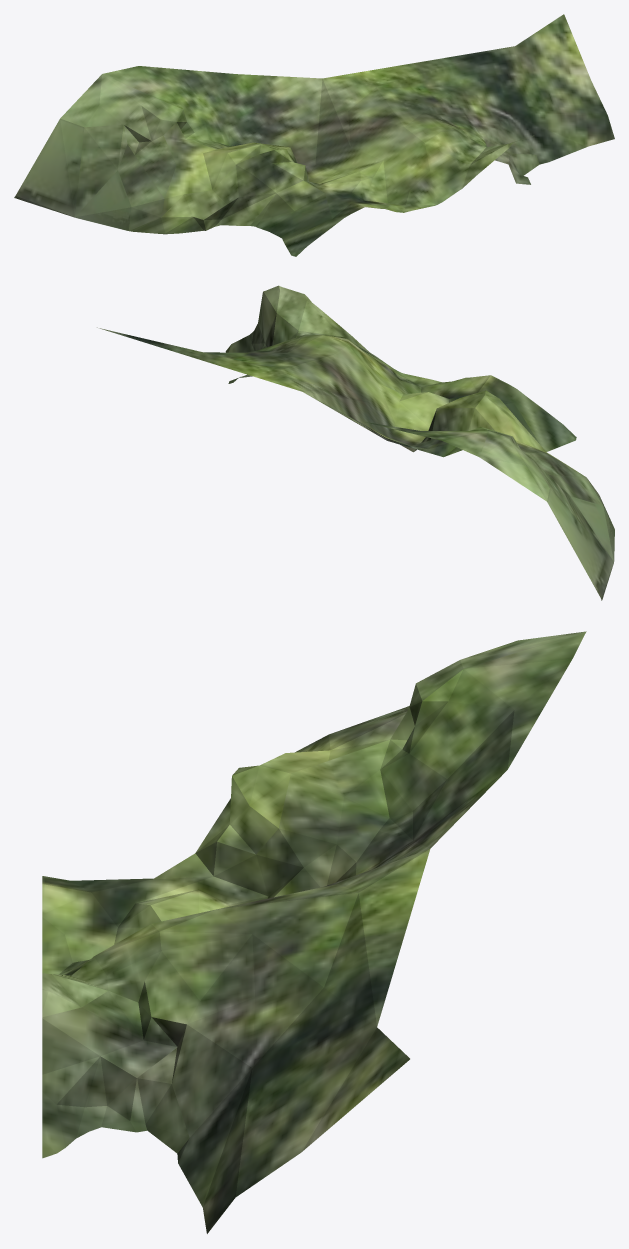
3 views of the same model, one above another, from view 1: azimuth 30°, elevation 25°; view 2: azimuth 150°, elevation 25°; view 3: azimuth 270°, elevation 25° (orthographic). The views are drawn at different scales.
Bounding box in the file's own units: 45.42 × 8.5 × 20.93.
1 material, 1 textured.
